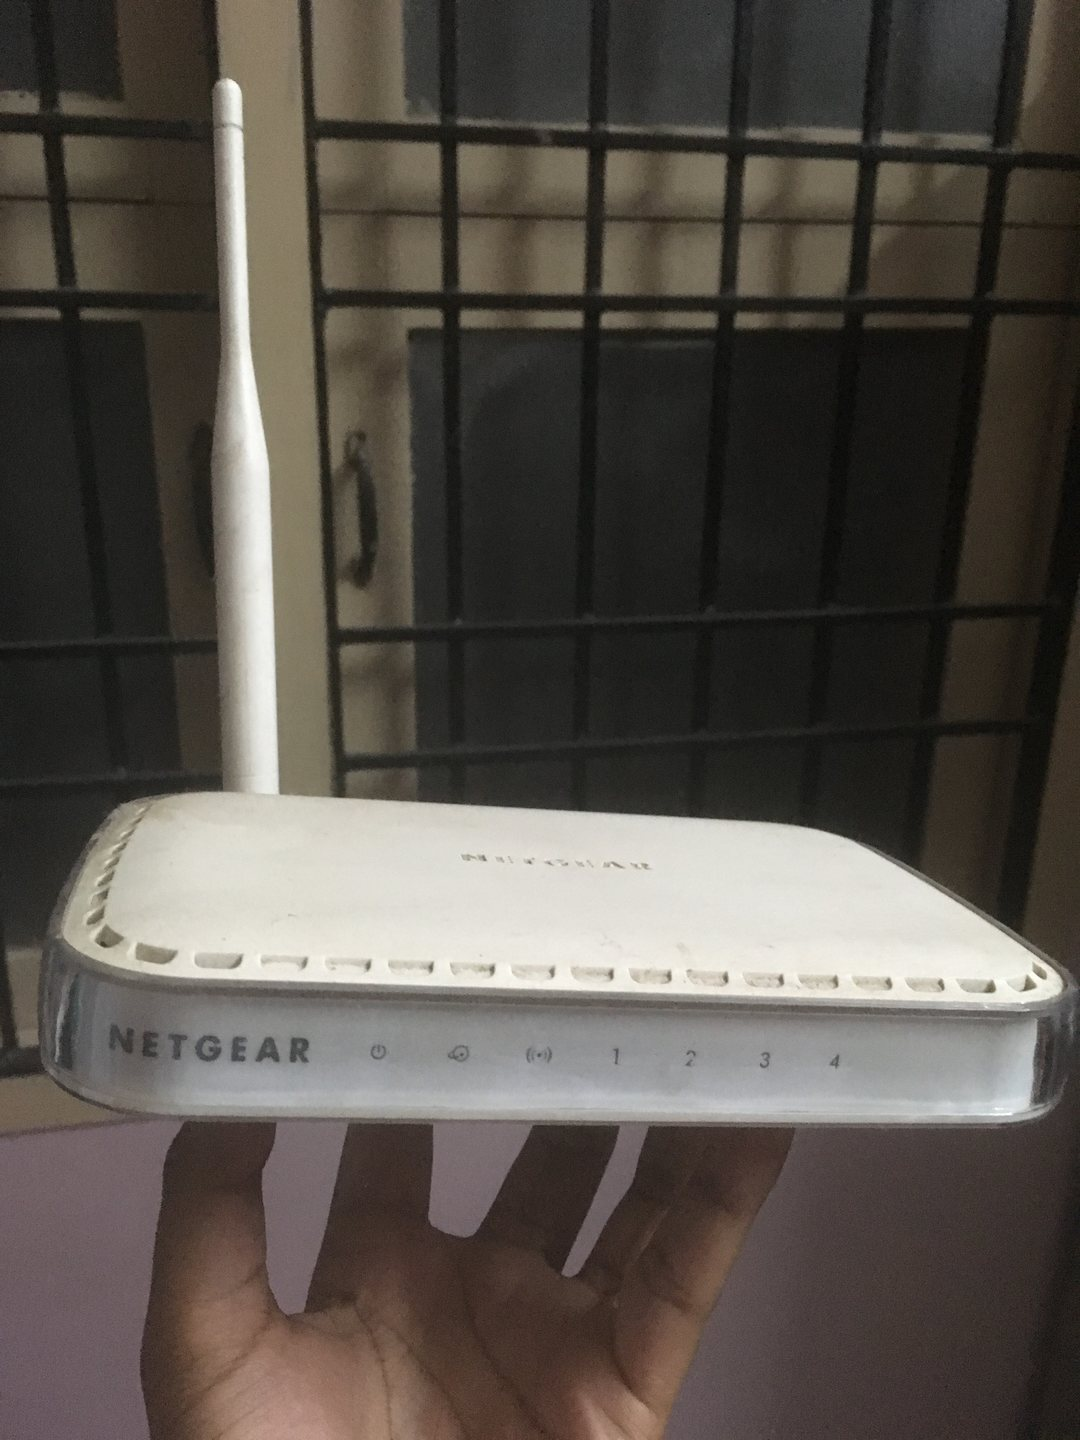NETGEAR: (100, 1015, 318, 1073)
modem: (37, 937, 1073, 1126)
